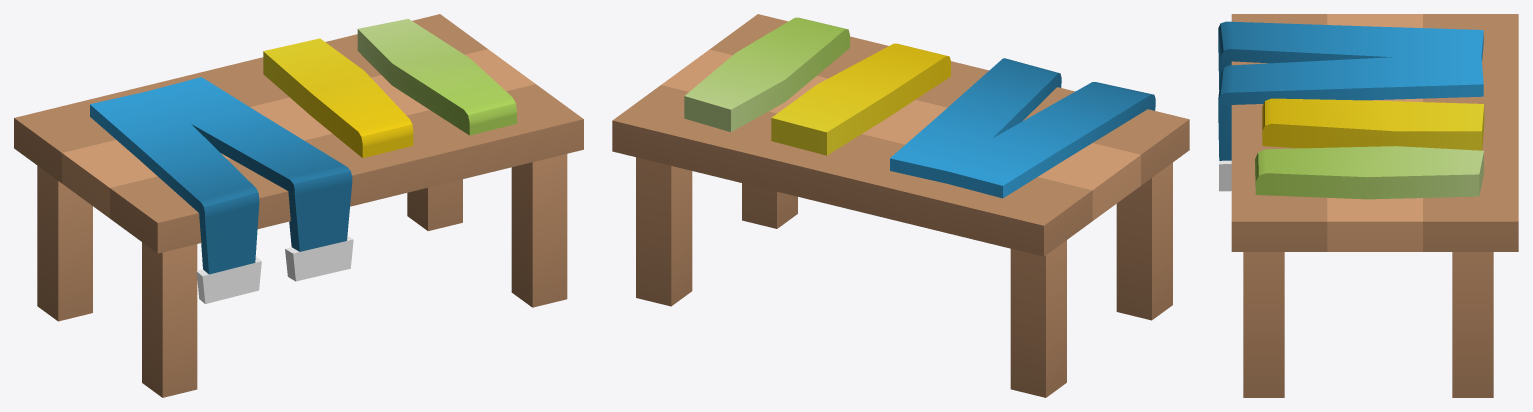
The model's file is table with pants.fbx.
3 views of the same model, side by side, from view 1: azimuth 30°, elevation 25°; view 2: azimuth 150°, elevation 25°; view 3: azimuth 270°, elevation 25° (orthographic).
Parts seen in each view (by area): view 1: table_with_pants; view 2: table_with_pants; view 3: table_with_pants.
Boxes of the visible parts, box(x1,y1,x2,y2) form: table_with_pants: box(14, 14, 583, 397); table_with_pants: box(612, 14, 1189, 397); table_with_pants: box(1218, 14, 1518, 397).
Size of the model in its own units: 194 by 89.17 by 119.
1 material, 1 textured.
